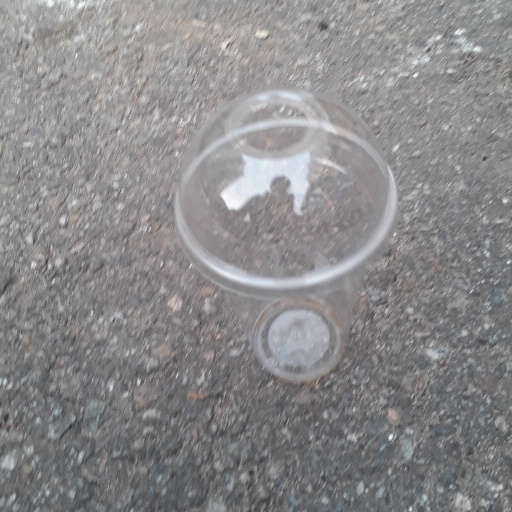Plastic_2: (171, 88, 400, 380)
